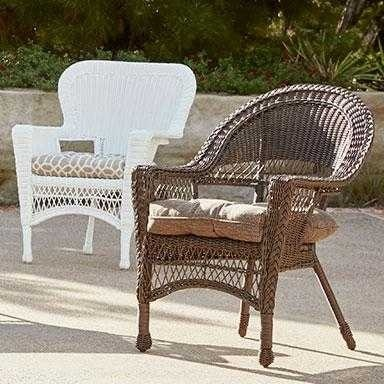obstacle: (133, 85, 373, 366)
